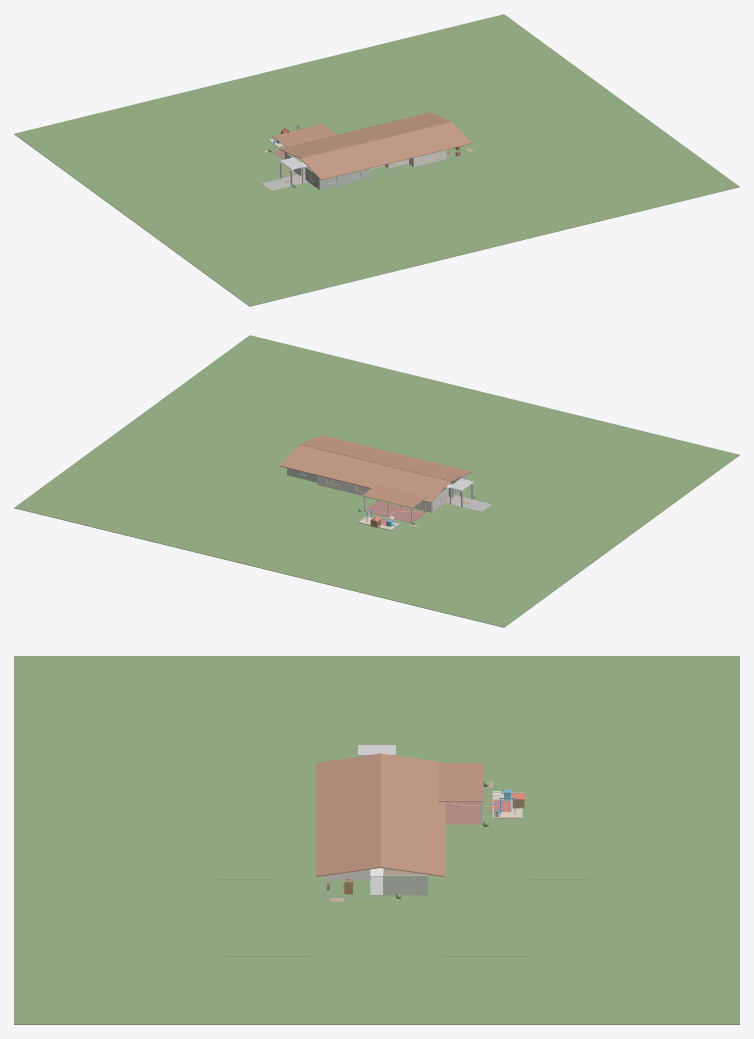
Rendered from EMERALD_SCHOOL.glb.
3 renders of one model, top to bottom at view 1: azimuth 30°, elevation 25°; view 2: azimuth 150°, elevation 25°; view 3: azimuth 270°, elevation 25°, orthographic. The views are drawn at different scales.
Parts seen in each view (by area): view 1: SITE_TERRAIN, ROOF_SOUTH, ROOF_NORTH, P06_GRASS_PATCH_06, P06_GRASS_PATCH_05, P06_GRASS_PATCH_03, P06_GRASS_PATCH_04, P06_GRASS_PATCH_01, P06_GRASS_PATCH_02, ROOF_PATIO; view 2: SITE_TERRAIN, ROOF_NORTH, ROOF_SOUTH, P06_GRASS_PATCH_05, P06_GRASS_PATCH_06, P06_GRASS_PATCH_03, P06_GRASS_PATCH_04, P06_GRASS_PATCH_02, P06_GRASS_PATCH_01, ROOF_PATIO, FLOOR_PATIO; view 3: SITE_TERRAIN, ROOF_SOUTH, ROOF_NORTH, P06_GRASS_PATCH_05, P06_GRASS_PATCH_06, P06_GRASS_PATCH_03, P06_GRASS_PATCH_04, P06_GRASS_PATCH_01, P06_GRASS_PATCH_02, ROOF_PATIO, FLOOR_PATIO.
Part boxes in pixels (bbox=[...]): SITE_TERRAIN: bbox=[14, 14, 739, 306]; ROOF_SOUTH: bbox=[300, 122, 472, 180]; ROOF_NORTH: bbox=[279, 112, 450, 158]; P06_GRASS_PATCH_06: bbox=[365, 171, 481, 208]; P06_GRASS_PATCH_05: bbox=[264, 97, 379, 133]; P06_GRASS_PATCH_03: bbox=[426, 86, 510, 120]; P06_GRASS_PATCH_04: bbox=[496, 138, 581, 172]; P06_GRASS_PATCH_01: bbox=[134, 150, 206, 178]; P06_GRASS_PATCH_02: bbox=[205, 201, 276, 230]; ROOF_PATIO: bbox=[272, 124, 337, 147]; SITE_TERRAIN: bbox=[14, 335, 739, 627]; ROOF_NORTH: bbox=[279, 444, 451, 502]; ROOF_SOUTH: bbox=[301, 435, 471, 481]; P06_GRASS_PATCH_05: bbox=[256, 504, 371, 541]; P06_GRASS_PATCH_06: bbox=[358, 430, 473, 467]; P06_GRASS_PATCH_03: bbox=[172, 459, 257, 493]; P06_GRASS_PATCH_04: bbox=[243, 407, 327, 441]; P06_GRASS_PATCH_02: bbox=[524, 488, 595, 517]; P06_GRASS_PATCH_01: bbox=[453, 540, 524, 568]; ROOF_PATIO: bbox=[362, 484, 427, 508]; FLOOR_PATIO: bbox=[363, 501, 425, 522]; SITE_TERRAIN: bbox=[14, 656, 739, 1024]; ROOF_SOUTH: bbox=[316, 753, 380, 876]; ROOF_NORTH: bbox=[380, 753, 445, 876]; P06_GRASS_PATCH_05: bbox=[529, 806, 587, 879]; P06_GRASS_PATCH_06: bbox=[217, 806, 275, 879]; P06_GRASS_PATCH_03: bbox=[442, 913, 529, 956]; P06_GRASS_PATCH_04: bbox=[224, 913, 311, 956]; P06_GRASS_PATCH_01: bbox=[486, 702, 558, 738]; P06_GRASS_PATCH_02: bbox=[268, 702, 340, 738]; ROOF_PATIO: bbox=[437, 763, 483, 801]; FLOOR_PATIO: bbox=[445, 801, 482, 824].
Size of what is drawn, in the model's own units: 120 by 4.7 by 100.
